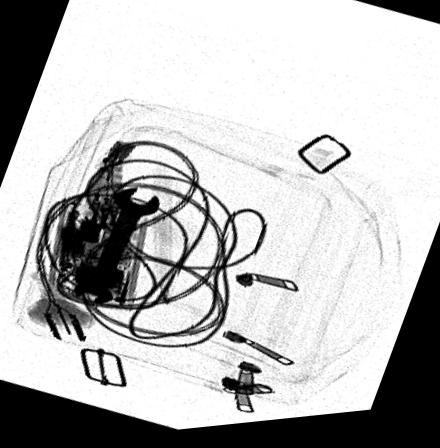Wrench: (71, 188, 161, 306)
